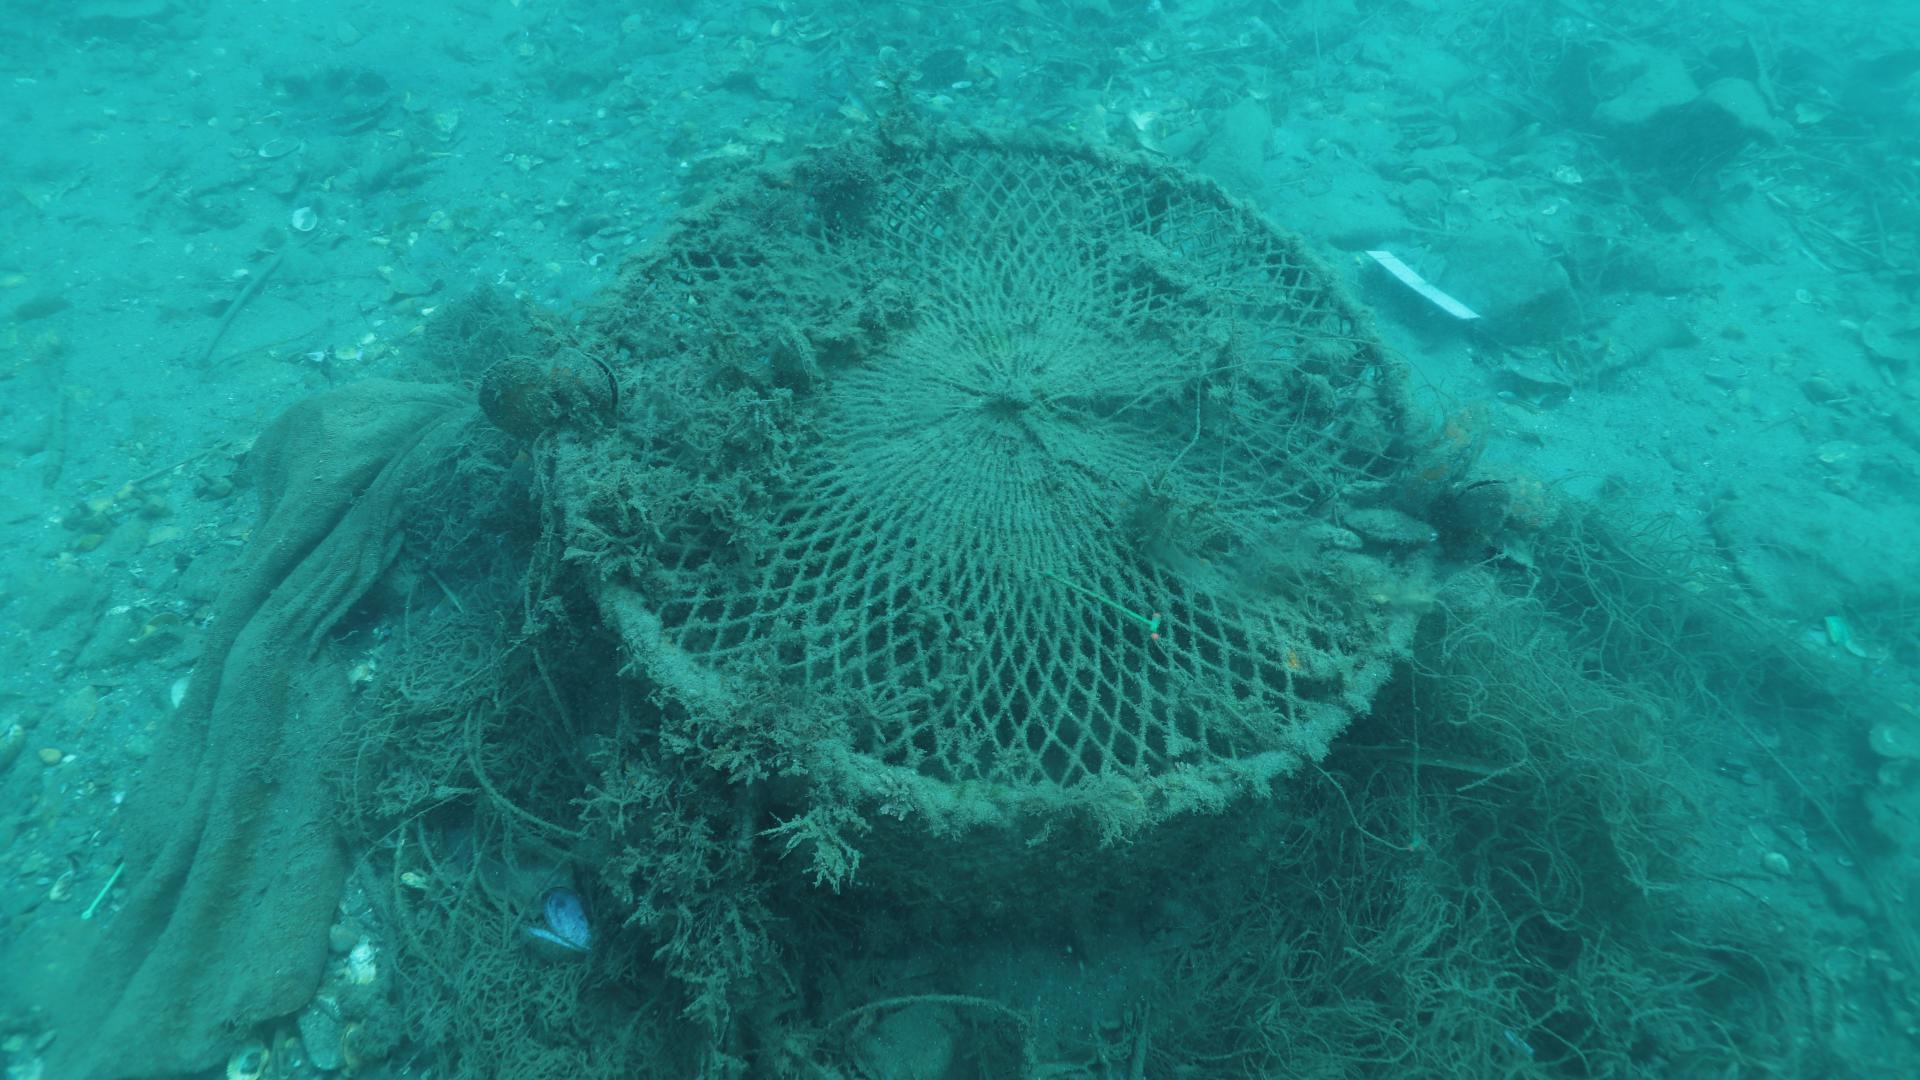circular fish trap: (539, 119, 1439, 944)
